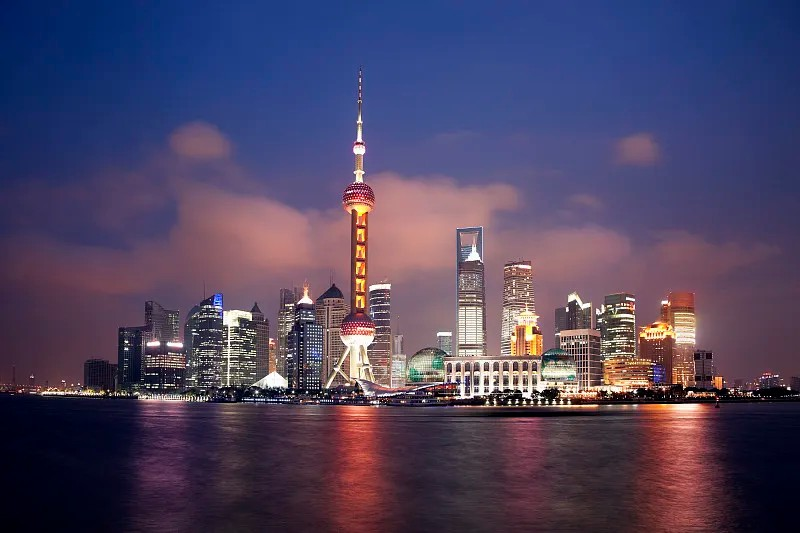Oriental: (324, 64, 376, 387)
